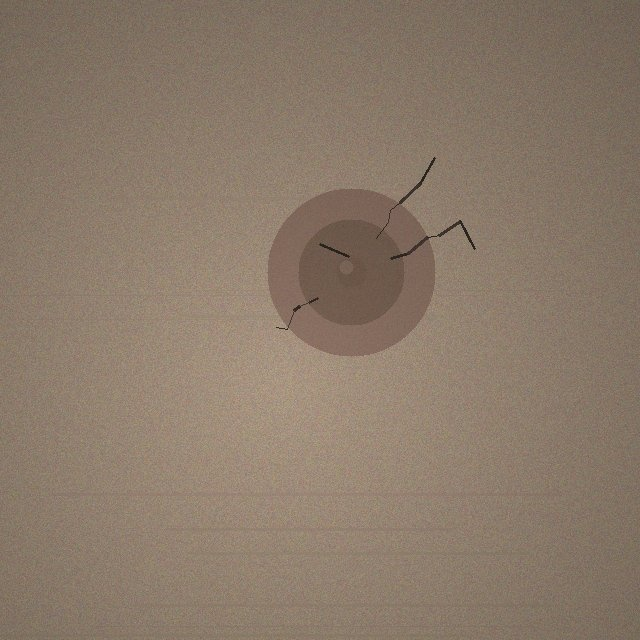crack: (267, 188, 435, 356)
